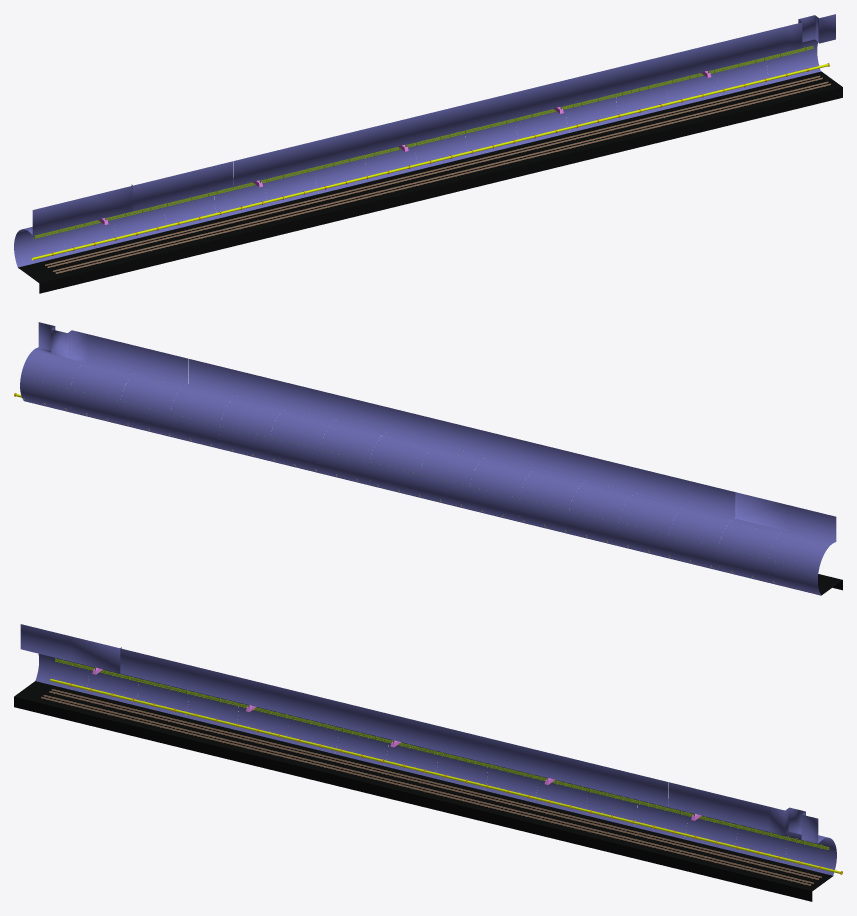
The picture shows the model from 3 angles, top to bottom: view 1: azimuth 30°, elevation 25°; view 2: azimuth 150°, elevation 25°; view 3: azimuth 330°, elevation 25°; orthographic projection.
Visible parts, largest first — view 1: Tunel, Piso, Rieles, Cables, Tuberias; view 2: Tunel, Piso; view 3: Tunel, Piso, Rieles, Cables, Tuberias.
Boxes of the visible parts, x1=… form: Tunel: x1=14, y1=14, x2=835, y2=268; Piso: x1=18, y1=71, x2=842, y2=293; Rieles: x1=45, y1=75, x2=830, y2=273; Cables: x1=33, y1=45, x2=813, y2=239; Tuberias: x1=31, y1=63, x2=829, y2=260; Tunel: x1=20, y1=322, x2=836, y2=595; Piso: x1=25, y1=401, x2=842, y2=595; Tunel: x1=20, y1=624, x2=836, y2=875; Piso: x1=14, y1=681, x2=833, y2=901; Rieles: x1=41, y1=689, x2=821, y2=885; Cables: x1=55, y1=658, x2=829, y2=850; Tuberias: x1=50, y1=679, x2=842, y2=874.
Bounding box in the file's own units: 3232 × 303 × 174.
